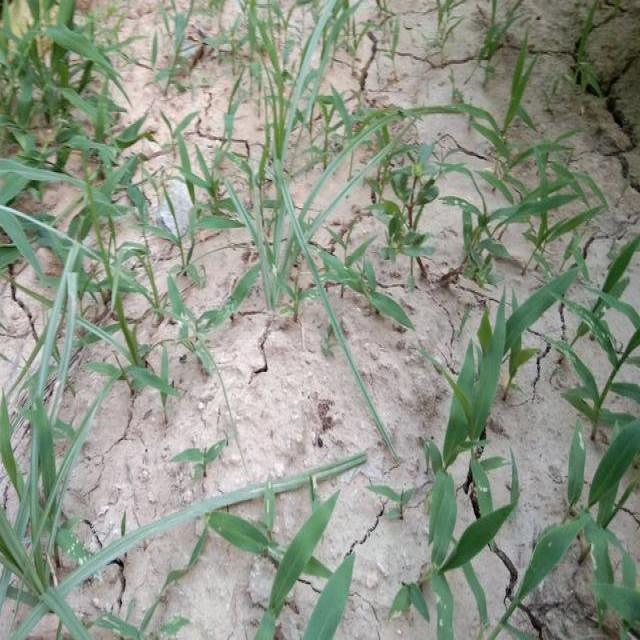weed: (2, 6, 178, 323), (174, 438, 375, 640), (447, 36, 596, 272), (187, 171, 420, 315), (245, 17, 444, 184), (433, 316, 518, 638), (10, 358, 107, 640), (561, 281, 640, 607)
